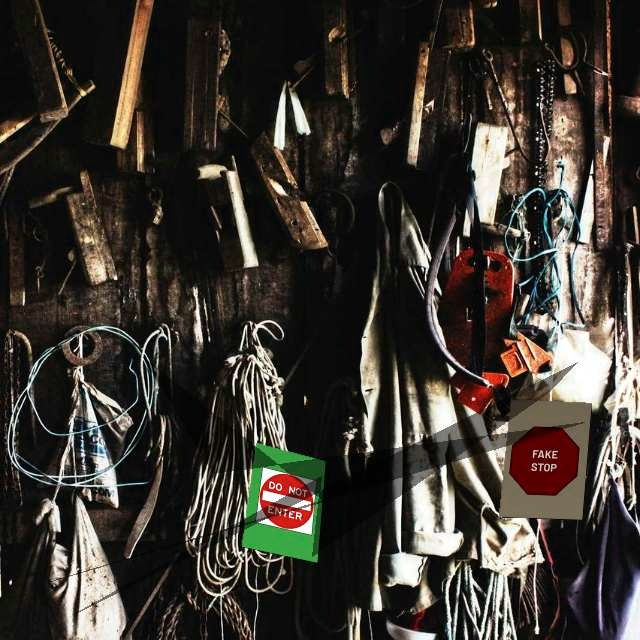DO_NOT_ENTER: (255, 466, 318, 537)
FAKE_STOP: (507, 424, 582, 498)
